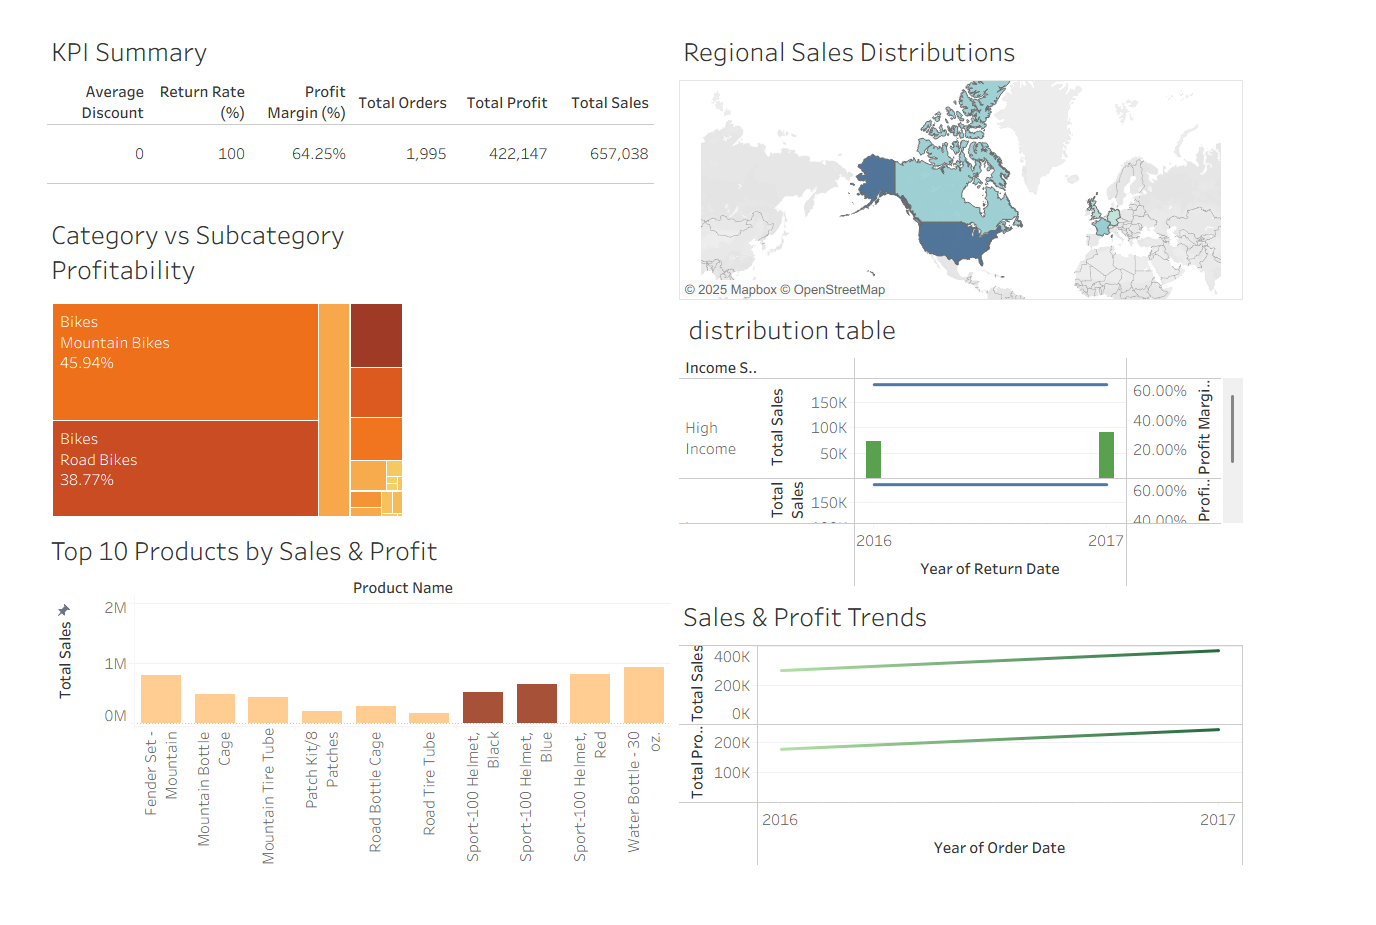

This screenshot's page, from the dashboard's own definition file:
{"tool":"tableau","page":{"name":"Dashboard 2","canvas":[1000,1000],"units":"permille","ordinal":0},"visuals":[{"type":"worksheet","title":"KPI Summary","mark":"Automatic","box":[6.6,10,518,212]},{"type":"worksheet","title":"Regional Sales Distributions","mark":"Automatic","box":[524.6,10,468.9,322.9]},{"type":"worksheet","title":"Category vs Subcategory Profitability","mark":"Automatic","box":[6.6,222,518,367.8]},{"type":"worksheet","title":" distribution table","mark":"Automatic","rows":["Calculation_162129651341406215","Calculation_162129651328450560","Calculation_162129651328905218"],"cols":["ReturnDate"],"box":[524.6,332.9,468.9,332.9]},{"type":"worksheet","title":"Top 10 Products by Sales & Profit","mark":"Automatic","rows":["Calculation_162129651328450560"],"cols":["ProductName"],"box":[6.6,589.8,518,400.2]},{"type":"worksheet","title":"Sales & Profit Trends","mark":"Line","rows":["Calculation_162129651328450560","Calculation_162129651328724993"],"cols":["OrderDate"],"box":[524.6,665.8,468.9,324.2]}]}

Visuals, with their boxes on the dashboard's canvas, which has no fixed pixel size, in thousandths of its width and height (x1, y1, x2, y2). These are canvas units, not pixel positions in the 1376x925 screenshot, which may show the page scaled, cropped or inside an application window:
"KPI Summary" worksheet: [7,10,525,222]
"Regional Sales Distributions" worksheet: [525,10,994,333]
"Category vs Subcategory Profitability" worksheet: [7,222,525,590]
" distribution table" worksheet: [525,333,994,666]
"Top 10 Products by Sales & Profit" worksheet: [7,590,525,990]
"Sales & Profit Trends" worksheet (Line marks): [525,666,994,990]
